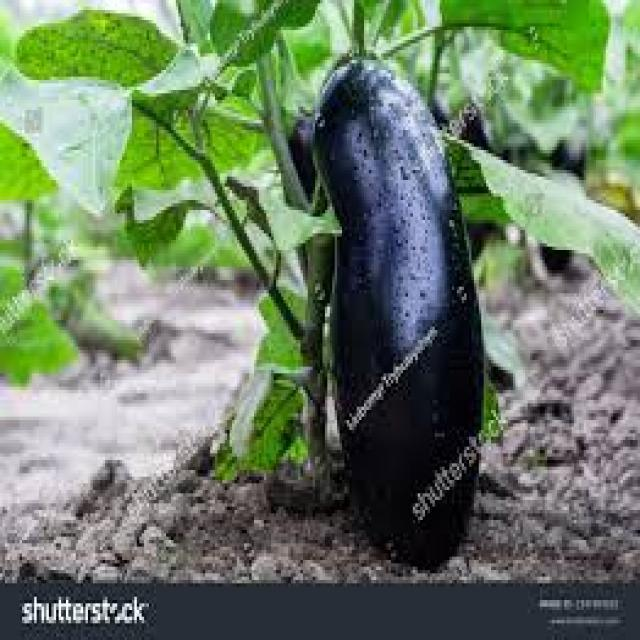Eggplant: (310, 42, 487, 565), (270, 40, 340, 314), (446, 64, 489, 262), (540, 130, 590, 279)
